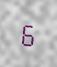six: (19, 19, 35, 47)
